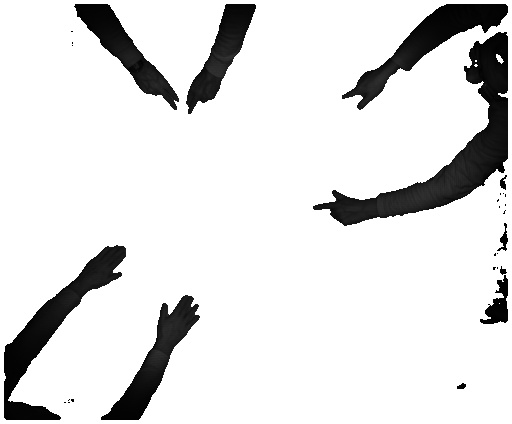hand: (77, 240, 127, 293), (317, 187, 377, 231), (129, 64, 183, 111), (336, 67, 393, 111), (162, 288, 199, 347), (187, 73, 231, 119)
